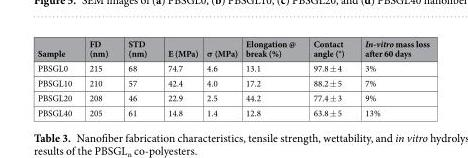table: (36, 36, 428, 118)
table column: (354, 36, 428, 118), (241, 36, 303, 118), (303, 36, 354, 118), (156, 36, 201, 118), (36, 36, 79, 118), (201, 36, 241, 118), (117, 36, 156, 118), (79, 36, 117, 118)
table column header: (36, 36, 428, 60)
table row: (36, 36, 428, 60), (36, 60, 428, 75), (36, 75, 428, 90), (36, 90, 428, 104), (36, 104, 428, 118)
